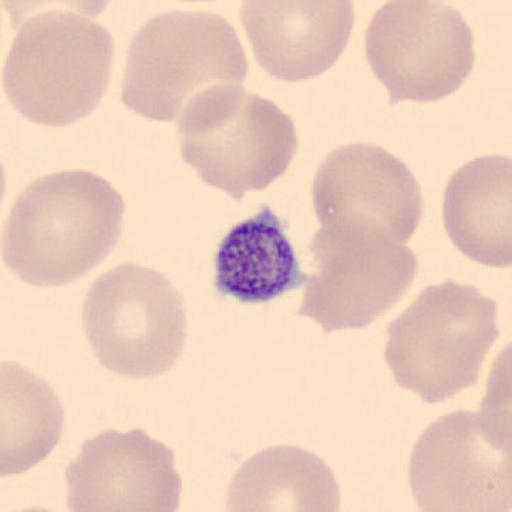Platelet: (209, 208, 307, 305)
RBC: (120, 6, 250, 126), (1, 168, 127, 289), (382, 277, 500, 406), (175, 82, 300, 200), (298, 212, 420, 332), (0, 8, 117, 129), (80, 259, 189, 381), (309, 140, 426, 251), (363, 0, 477, 104), (407, 409, 512, 512), (62, 426, 184, 512), (238, 0, 356, 85), (224, 441, 342, 512), (441, 153, 512, 269), (1, 360, 67, 476), (478, 340, 512, 458), (0, 0, 115, 34), (2, 0, 116, 24), (39, 0, 113, 21), (2, 503, 69, 512)
